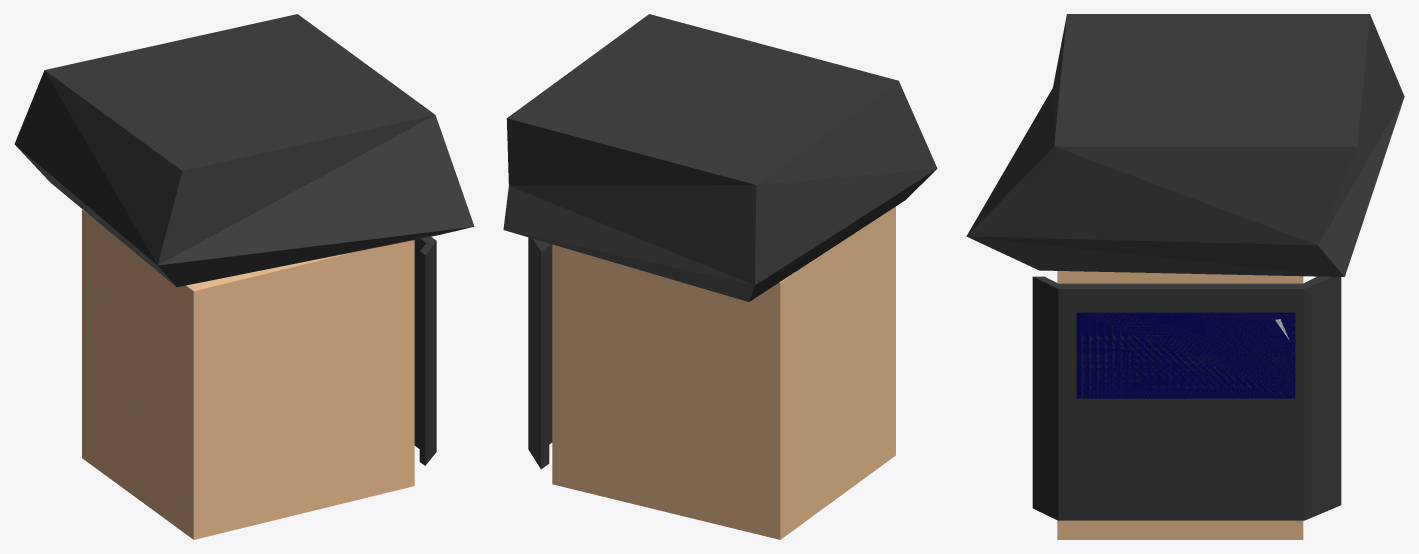
The model's file is char weld.dae.
3 views of the same model, side by side, from view 1: azimuth 30°, elevation 25°; view 2: azimuth 150°, elevation 25°; view 3: azimuth 270°, elevation 25° (orthographic). The views are drawn at different scales.
Parts seen in each view (by area): view 1: hair3, Component_1, mask; view 2: hair3, Component_1, mask; view 3: hair3, mask (×2), Component_1.
Part boxes in pixels (box(x1,y1,x2,y2)): hair3: box(14, 14, 474, 287); Component_1: box(82, 209, 414, 539); mask: box(414, 237, 436, 465); hair3: box(503, 14, 937, 301); Component_1: box(552, 206, 895, 539); mask: box(528, 237, 552, 469); hair3: box(966, 14, 1404, 276); mask (×2): box(1032, 276, 1341, 520); Component_1: box(1057, 271, 1303, 539).
Size of the model in its own units: 53.65 by 62.98 by 64.03.
